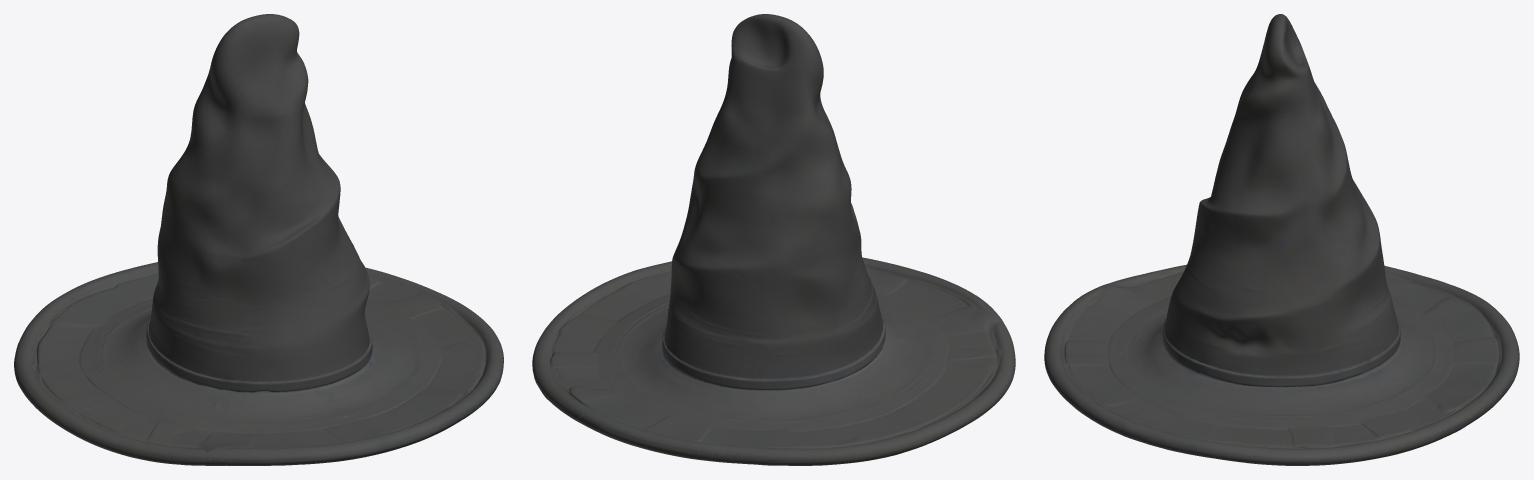
The model's file is detailed_realistic_model_sortinghat_12.glb.
The picture shows the model from 3 angles, left to right: view 1: azimuth 30°, elevation 25°; view 2: azimuth 150°, elevation 25°; view 3: azimuth 270°, elevation 25°; orthographic projection. The views are drawn at different scales.
Parts seen in each view (by area): view 1: tripo_node_bfea867d-d26b-4925-ab58-82a08cf1ec01; view 2: tripo_node_bfea867d-d26b-4925-ab58-82a08cf1ec01; view 3: tripo_node_bfea867d-d26b-4925-ab58-82a08cf1ec01.
Boxes of the visible parts, <box> form: tripo_node_bfea867d-d26b-4925-ab58-82a08cf1ec01: <box>14,14,503,465</box>; tripo_node_bfea867d-d26b-4925-ab58-82a08cf1ec01: <box>532,14,1015,465</box>; tripo_node_bfea867d-d26b-4925-ab58-82a08cf1ec01: <box>1044,14,1519,465</box>.
Size of the model in its own units: 1 by 0.9341 by 0.9992.
1 material, 1 textured.
